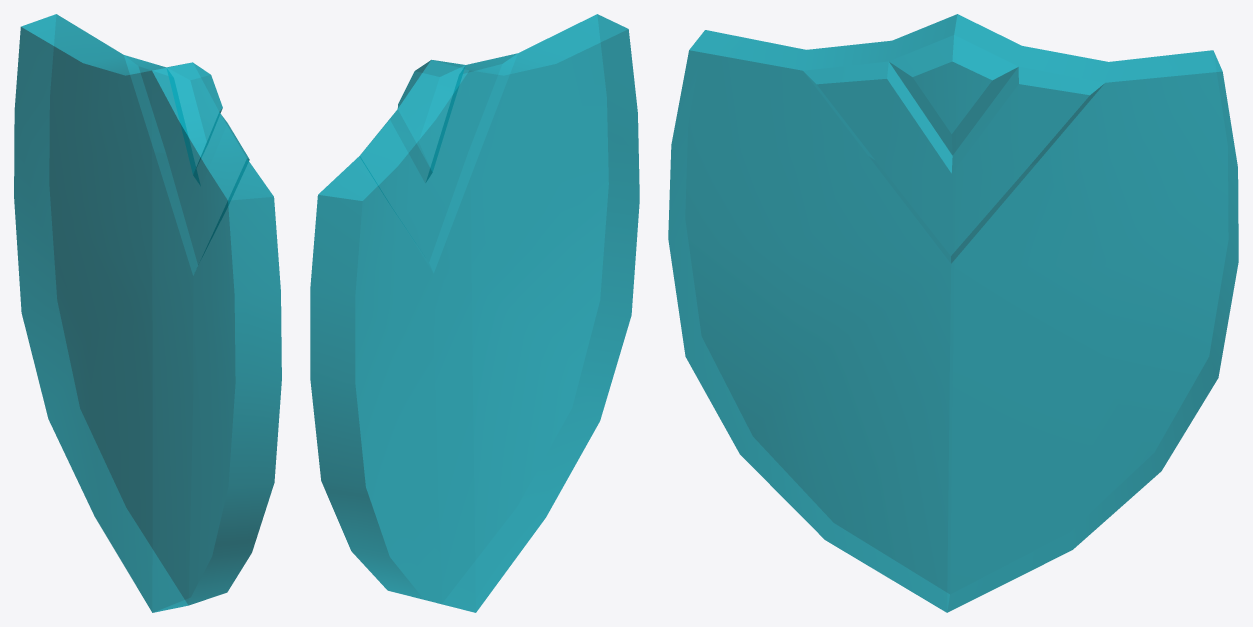
The model's file is ShieldRotate.obj.
The picture shows the model from 3 angles, left to right: view 1: azimuth 30°, elevation 25°; view 2: azimuth 150°, elevation 25°; view 3: azimuth 270°, elevation 25°; orthographic projection. The views are drawn at different scales.
Visible parts, largest first — view 1: Shield4; view 2: Shield4; view 3: Shield4.
Boxes of the visible parts, left/top/right/bottom form: Shield4: left=14, top=14, right=281, bottom=612; Shield4: left=310, top=14, right=639, bottom=612; Shield4: left=668, top=14, right=1238, bottom=612.
Size of the model in its own units: 1.26 by 6.53 by 5.8.
